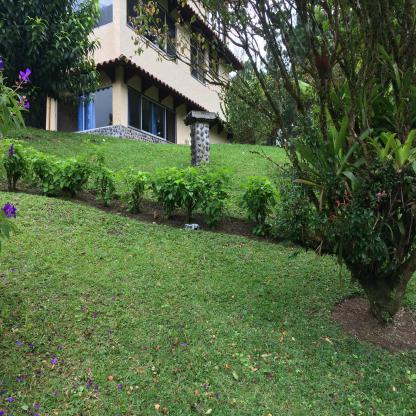plastik: (185, 223, 201, 230)
